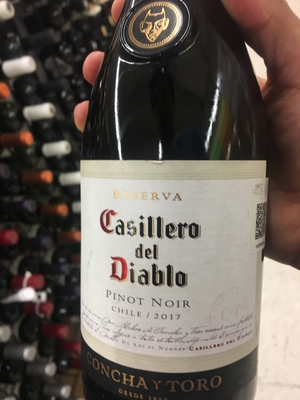casillero del diablo pinot noir: (74, 21, 267, 398)
